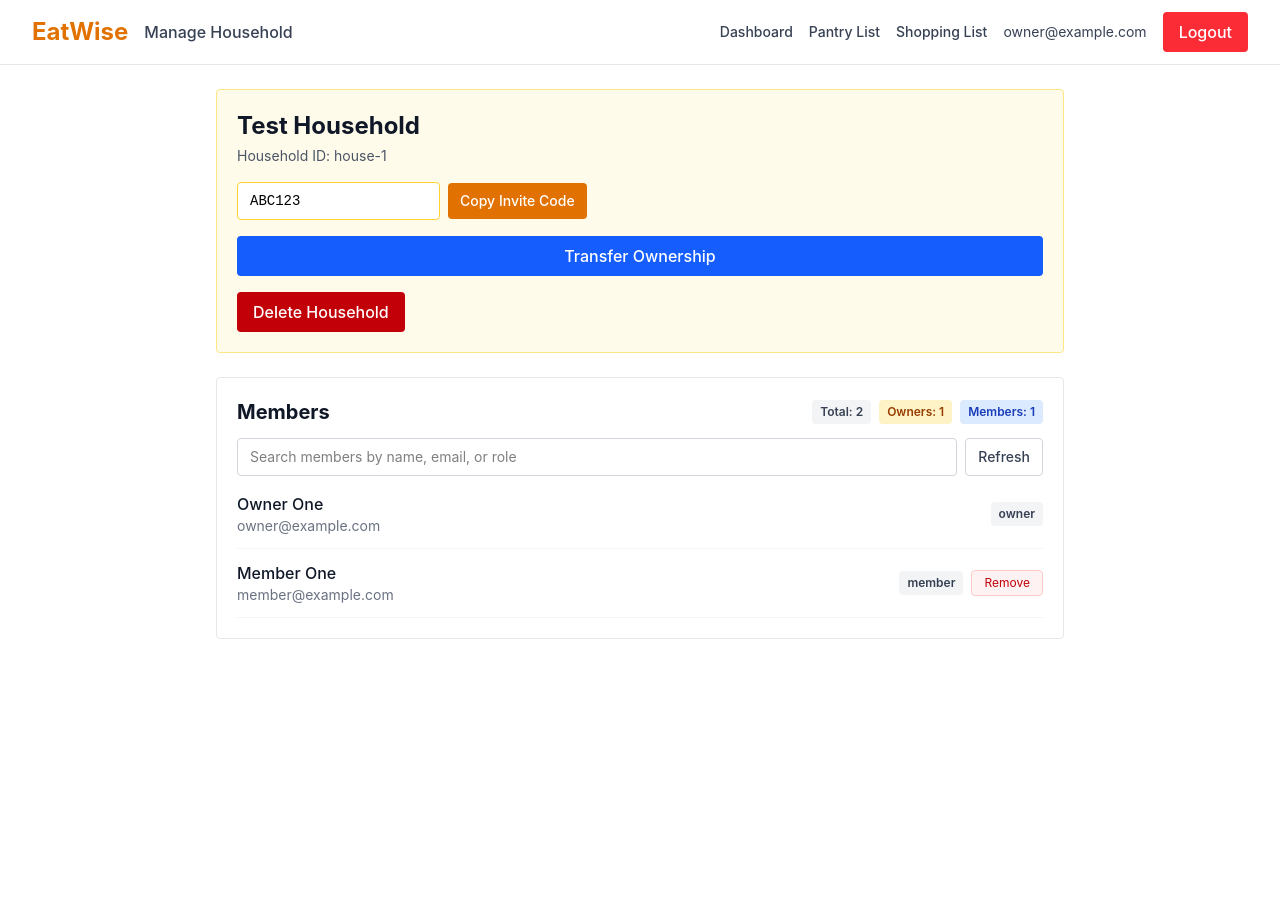
Scenario: ManageHouseholdPage › shows transfer ownership modal and transfers ownership
The width and height of the screenshot is (1280, 900).
Click the button "Transfer Ownership": (640, 256) [237,236,1043,276]
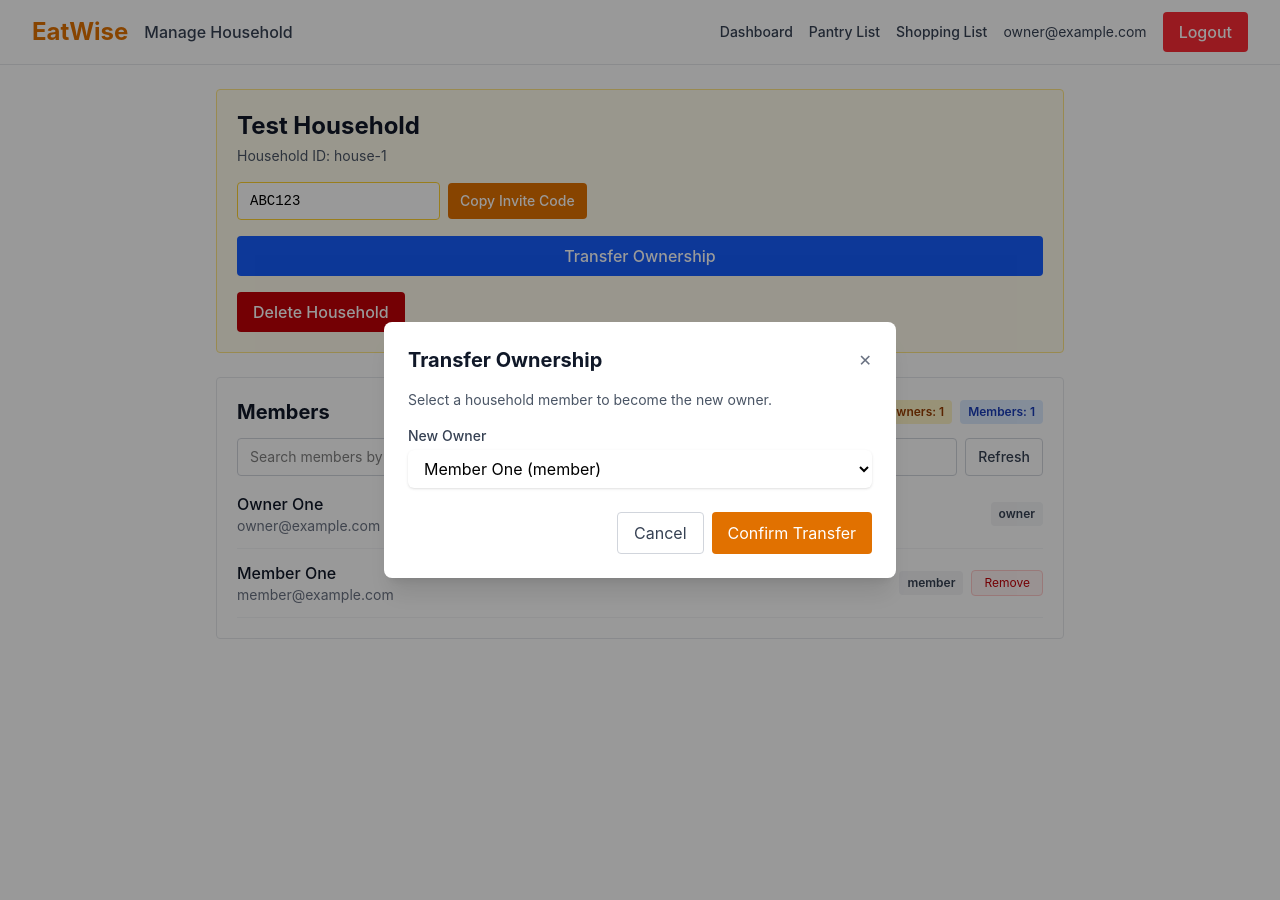
Select "Member One (member)" in the dropdown labelled "New Owner": (640, 469) [408,450,872,488]
Click the button "Confirm Transfer": (792, 533) [712,512,872,554]
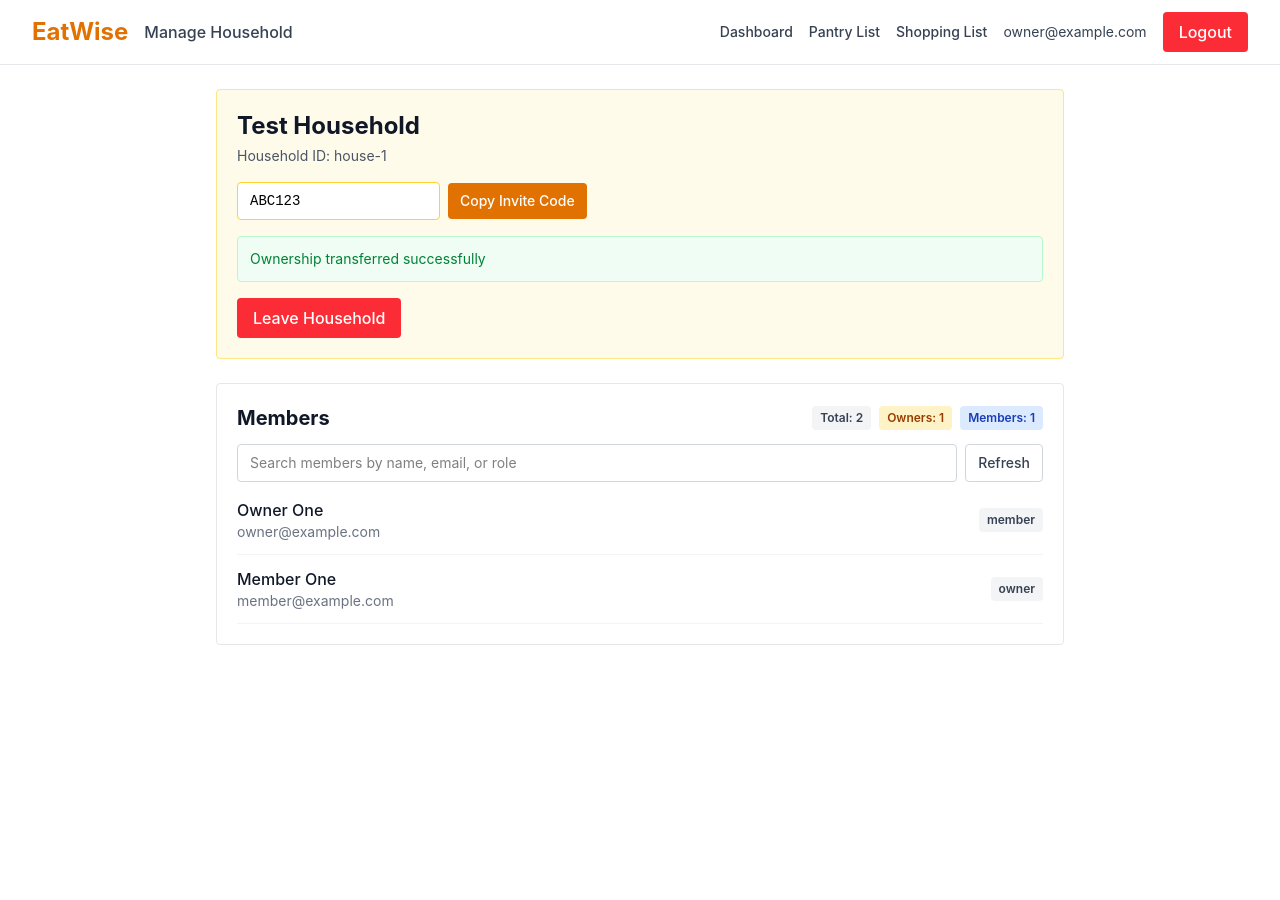
Check: the button "Transfer Ownership" is gone
